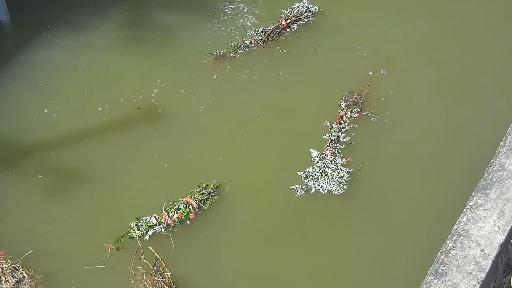twig: (272, 59, 416, 203), (102, 174, 237, 252), (206, 2, 340, 62), (127, 241, 181, 288), (0, 239, 49, 288)
